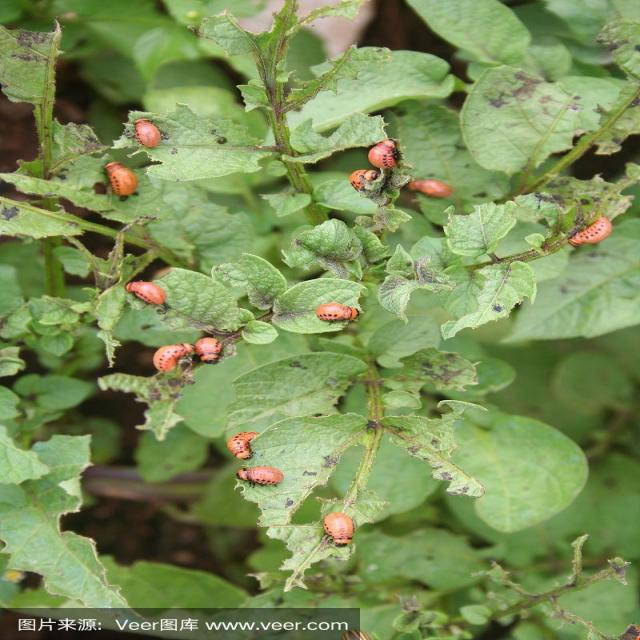ShuCaiHuaBanChong-Larva-: (90, 158, 163, 209), (136, 338, 207, 381), (560, 212, 618, 250), (300, 295, 372, 325), (128, 114, 175, 152), (400, 168, 455, 200), (314, 510, 360, 547), (231, 464, 292, 490), (225, 430, 274, 460), (334, 167, 380, 195), (126, 278, 172, 305), (369, 139, 406, 169), (194, 334, 228, 365)
